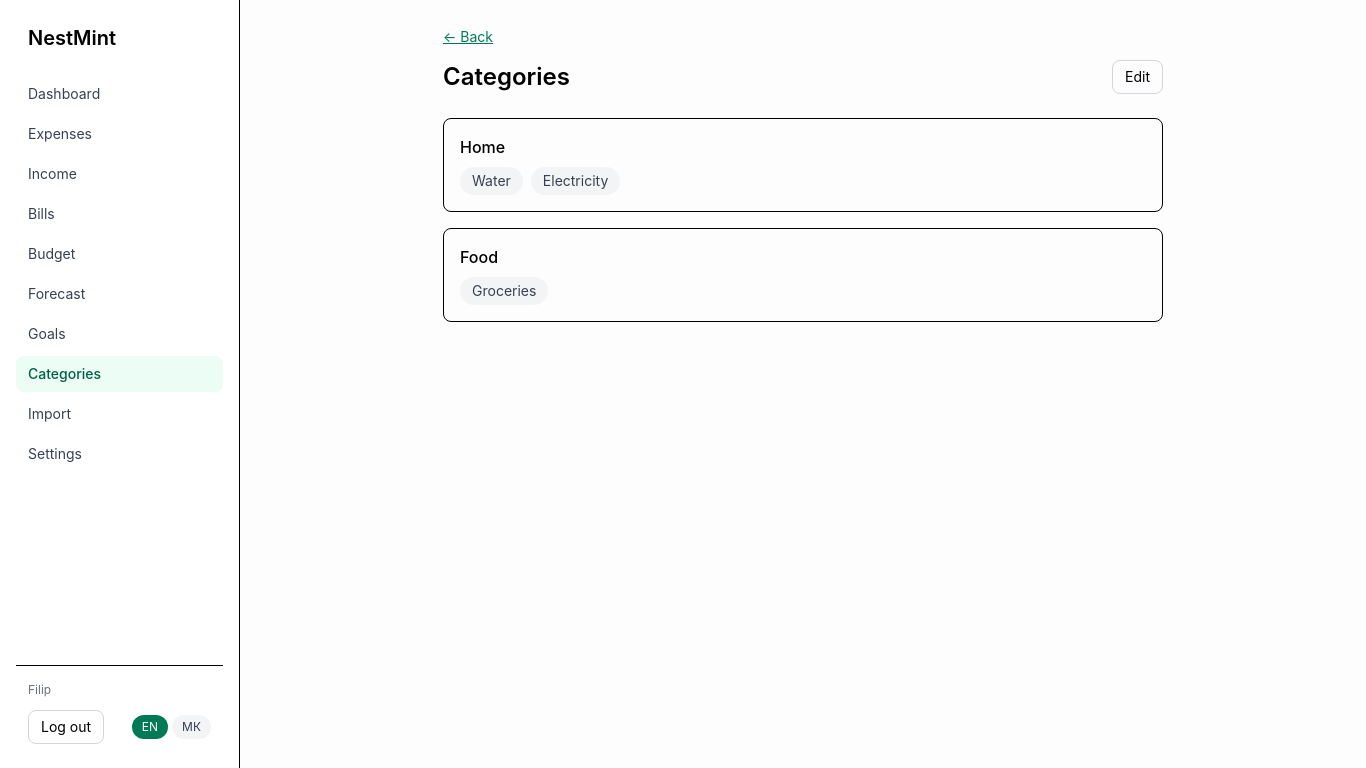
Test case: editing categories › does not send an empty name
Click the button "Edit" at x=1138, y=77, box x1=1112 y1=60 x2=1163 y2=94
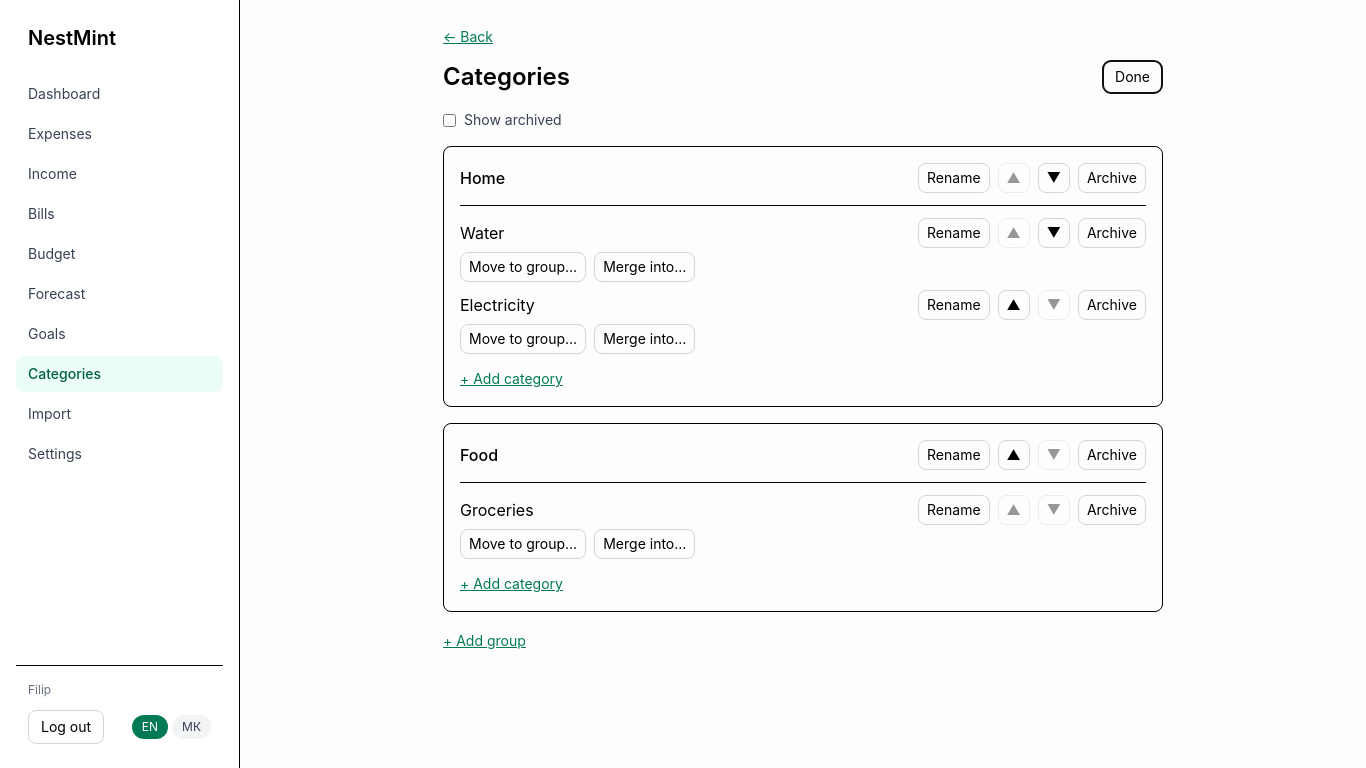
Click the button with aria-label "Rename Water" at x=954, y=233, box x1=918 y1=218 x2=990 y2=248
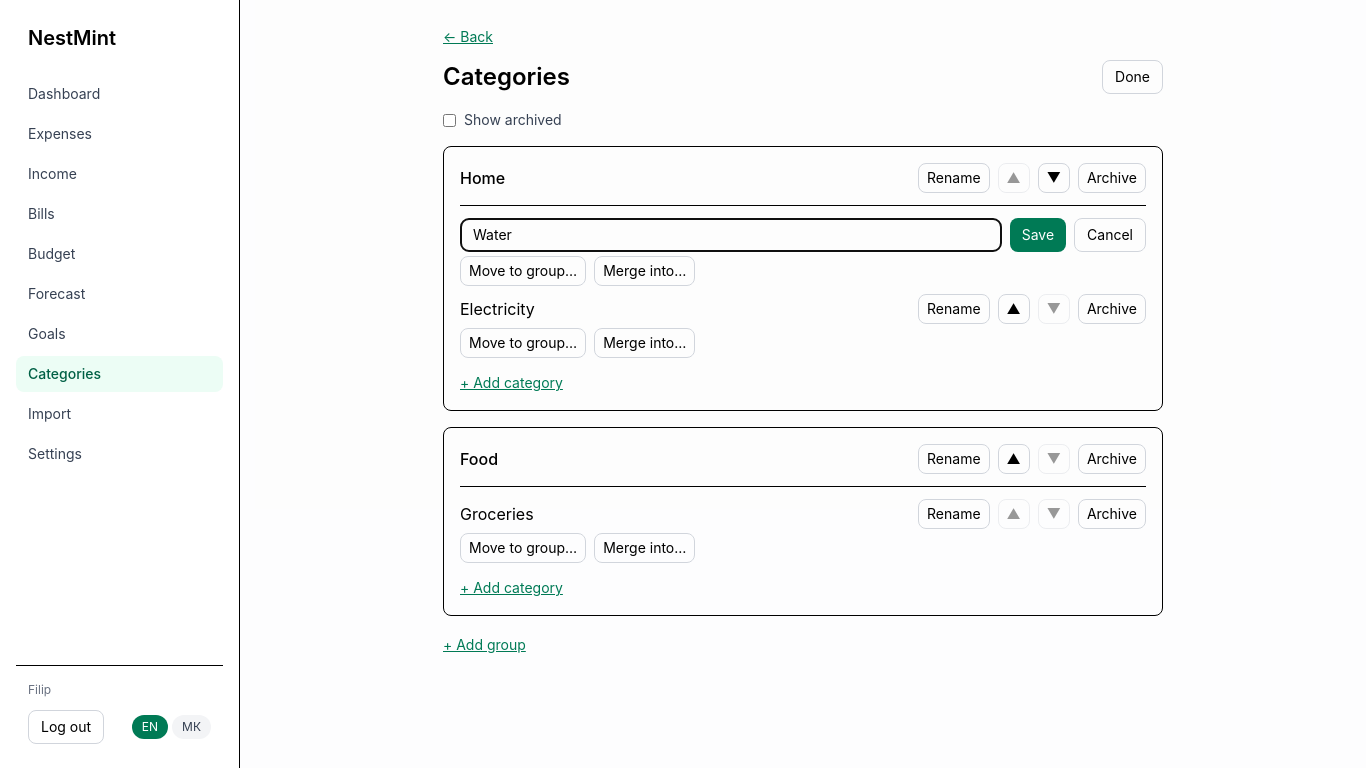
Clear the field named "New name for Water" at x=731, y=235, box x1=460 y1=218 x2=1002 y2=252
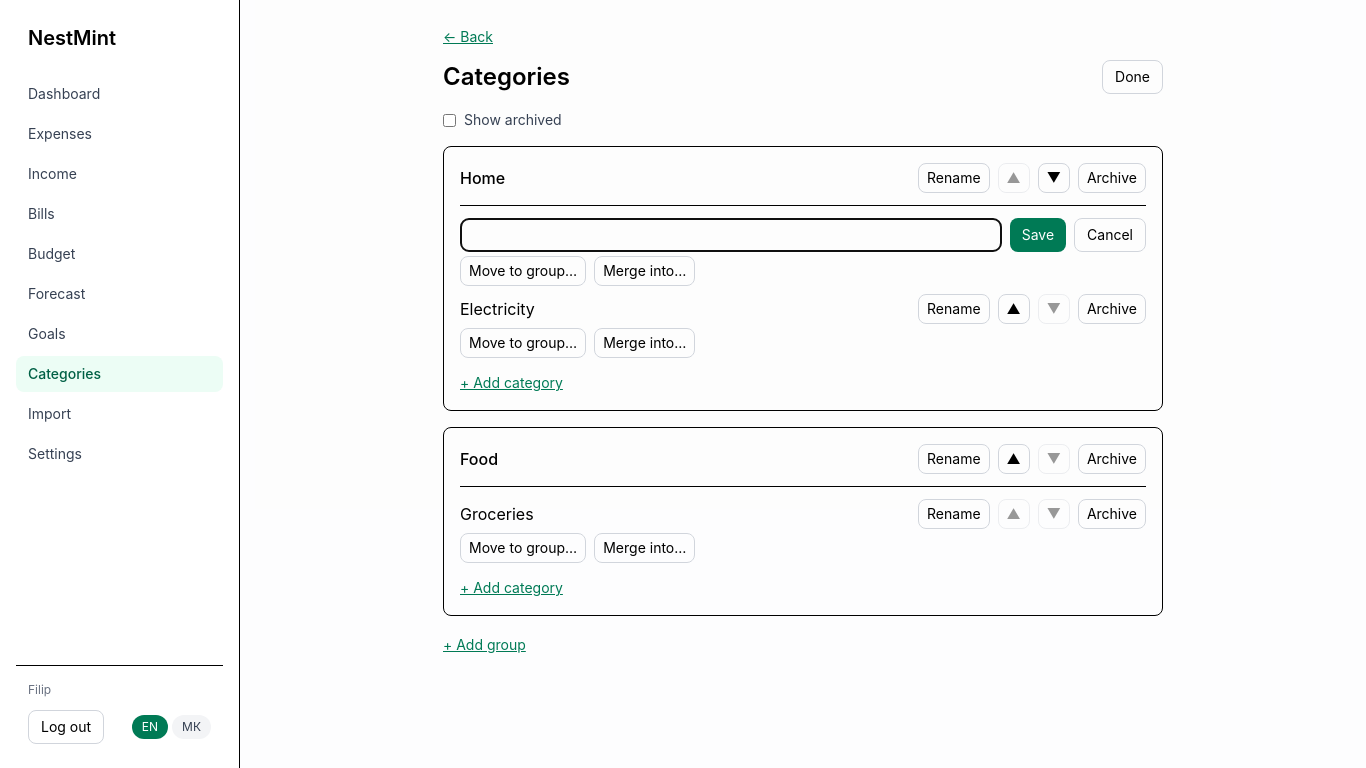
Click the button "Save" at x=1038, y=235, box x1=1010 y1=218 x2=1066 y2=252
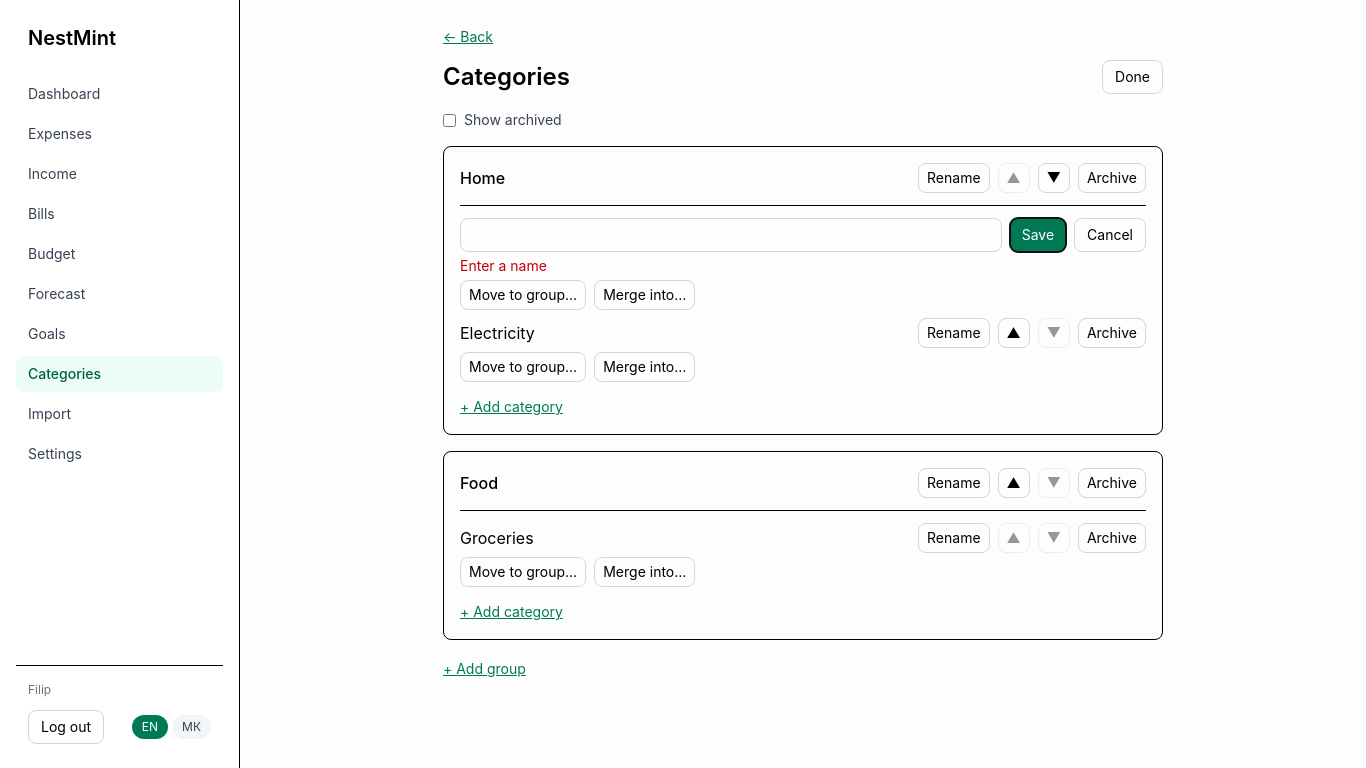
expect the text "Enter a name" is shown: met, box x1=460 y1=257 x2=547 y2=274
